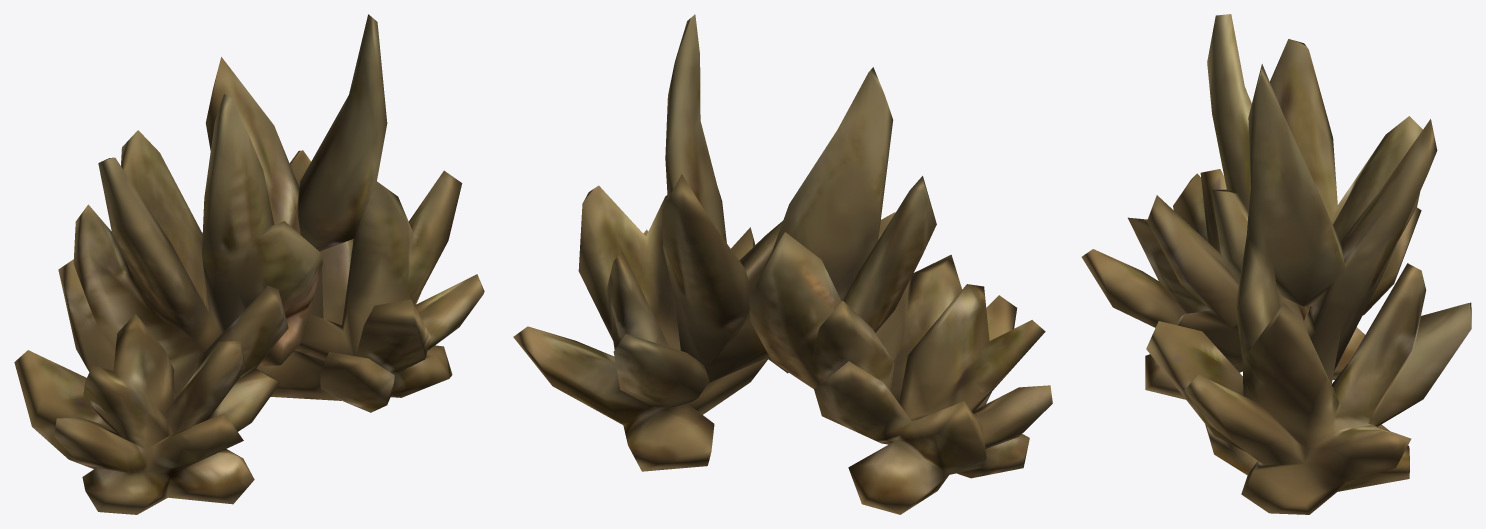
Rendered from Pastos_Deserticos.glb.
The picture shows the model from 3 angles, left to right: view 1: azimuth 30°, elevation 25°; view 2: azimuth 150°, elevation 25°; view 3: azimuth 270°, elevation 25°; orthographic projection. The views are drawn at different scales.
Visible parts, largest first — view 1: Pastos Deserticos; view 2: Pastos Deserticos; view 3: Pastos Deserticos.
Boxes of the visible parts, x1,y1,x2,y2 form: Pastos Deserticos: [14, 14, 484, 514]; Pastos Deserticos: [513, 14, 1052, 514]; Pastos Deserticos: [1081, 14, 1471, 514].
Size of the model in its own units: 0.097 by 0.0822 by 0.0682.
Materials: 1 (1 with a texture image).
